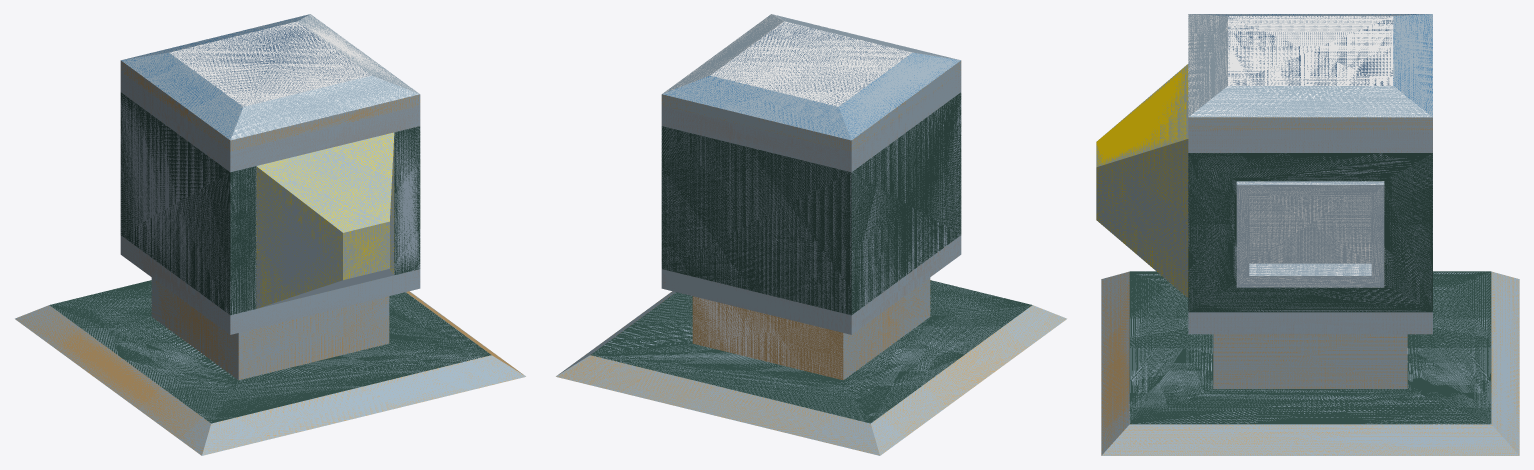
The model's file is Source.fbx.
The picture shows the model from 3 angles, left to right: view 1: azimuth 30°, elevation 25°; view 2: azimuth 150°, elevation 25°; view 3: azimuth 270°, elevation 25°; orthographic projection. The views are drawn at different scales.
Parts seen in each view (by area): view 1: Source1; view 2: Source1; view 3: Source1.
Part boxes in pixels (box(x1,y1,x2,y2)): Source1: box(15, 14, 525, 455); Source1: box(556, 14, 1066, 455); Source1: box(1096, 14, 1519, 455).
Size of the model in its own units: 1 by 0.835 by 1.01.
